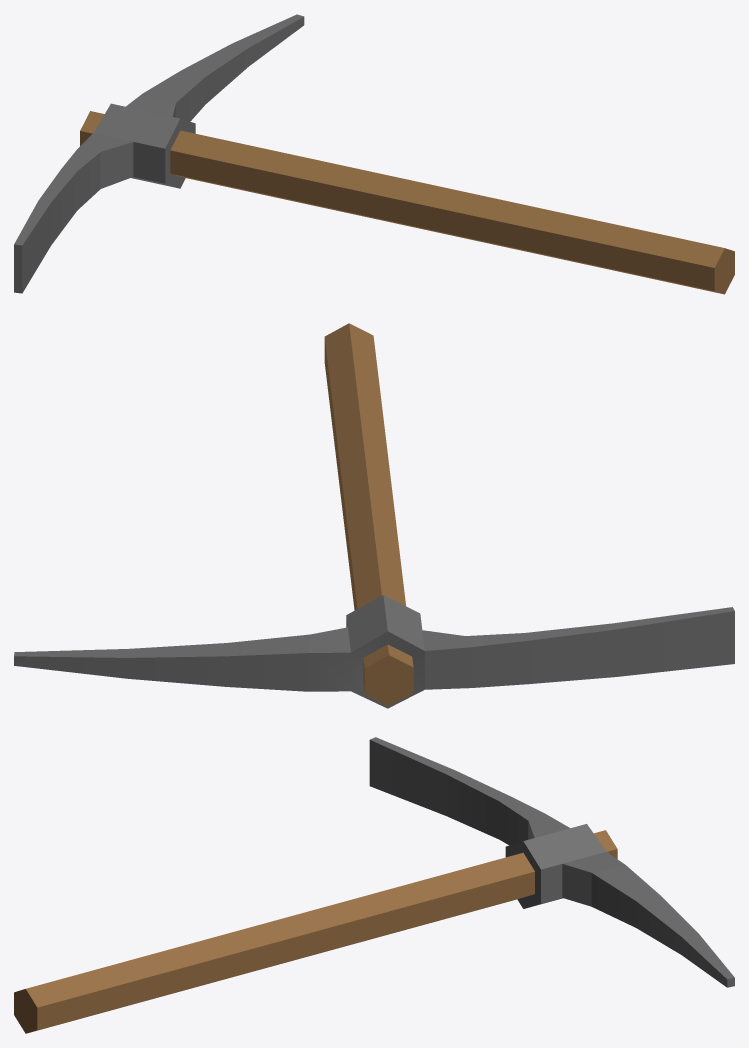
The model's file is Pickaxe.fbx.
3 renders of one model, top to bottom at view 1: azimuth 30°, elevation 25°; view 2: azimuth 150°, elevation 25°; view 3: azimuth 270°, elevation 25°, orthographic. The views are drawn at different scales.
Parts seen in each view (by area): view 1: Pickaxe; view 2: Pickaxe; view 3: Pickaxe.
Boxes of the visible parts, <box> form: Pickaxe: <box>14,14,734,294</box>; Pickaxe: <box>14,323,734,708</box>; Pickaxe: <box>14,737,734,1033</box>.
Size of the model in its own units: 124 by 147 by 15.27.
